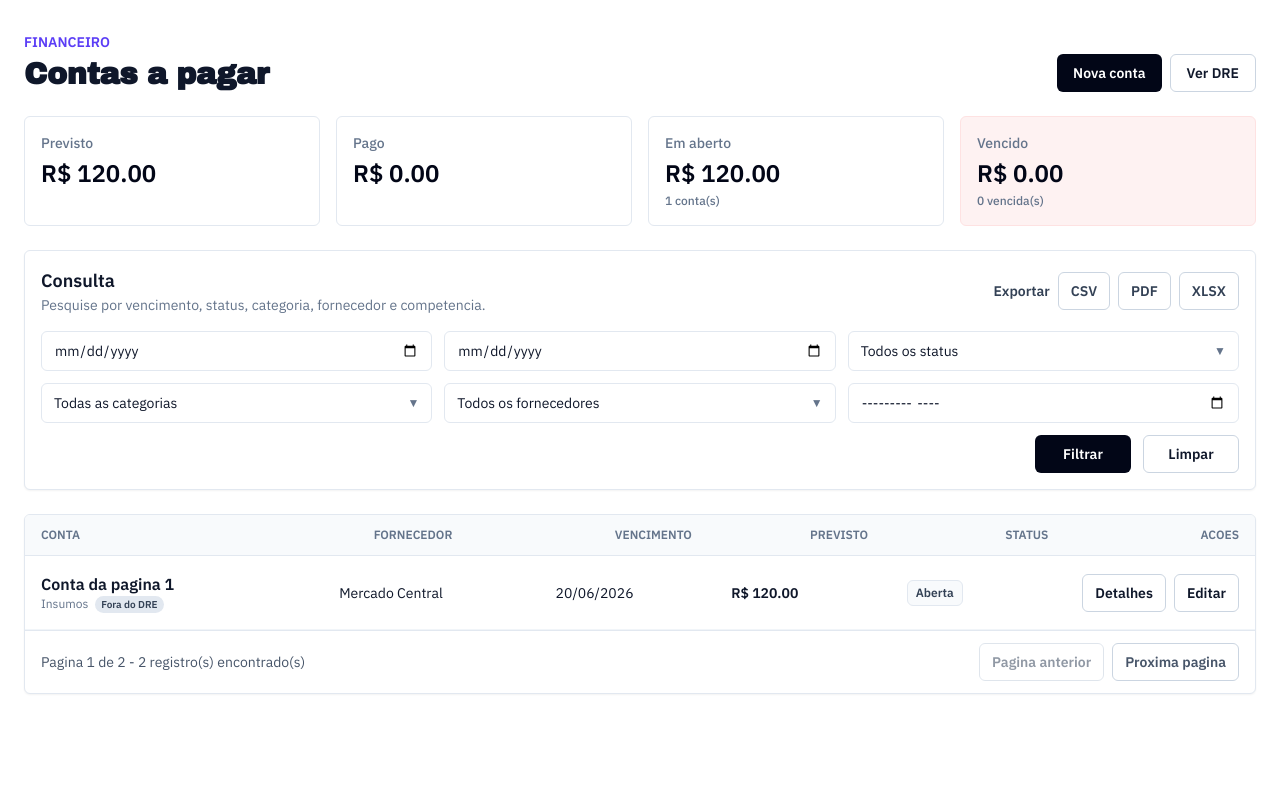
PayablesClient filters › navigates to the next page and renders its items
The image size is (1280, 800).
Click the button "Proxima pagina" at (1176, 662), box [1112,643,1239,681]
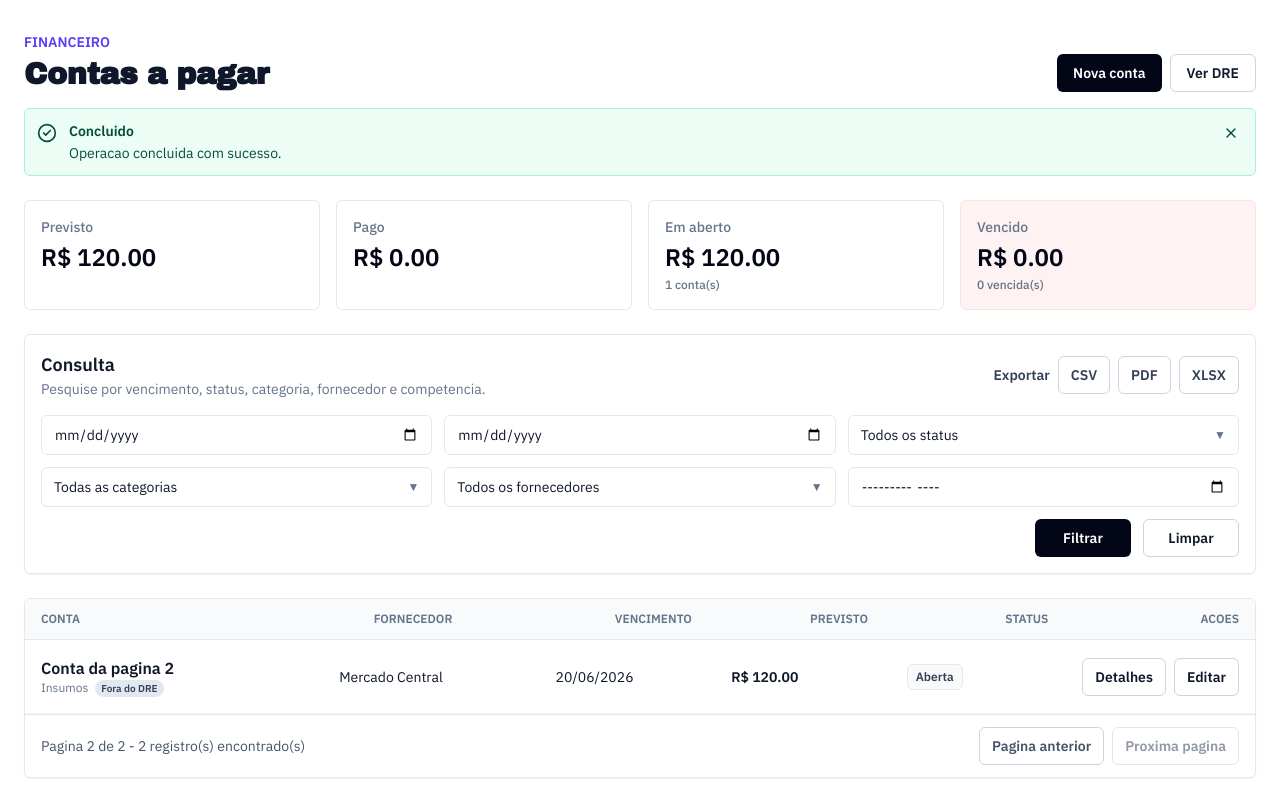
Result: the text "Conta da pagina 2" is shown at [41,658,174,678]
